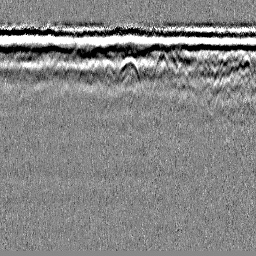cavity: (116, 56, 141, 84)
